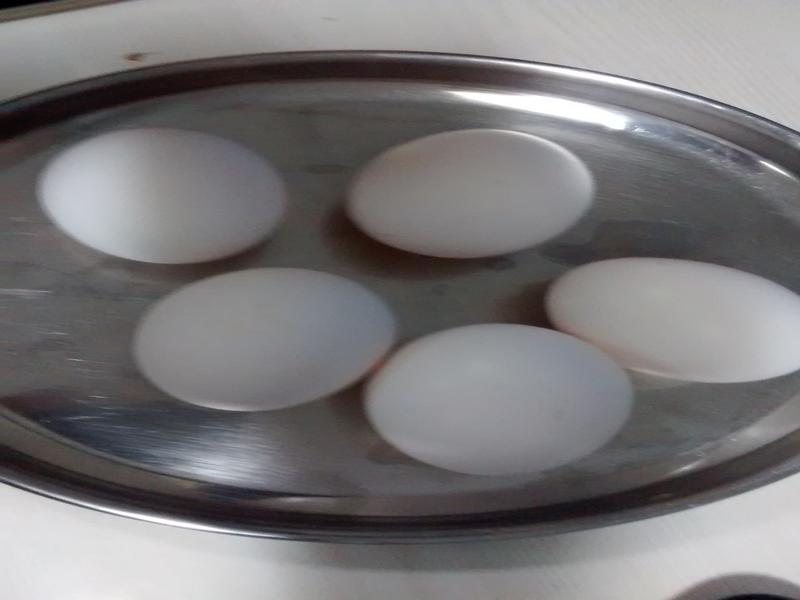egg: (128, 261, 399, 416)
